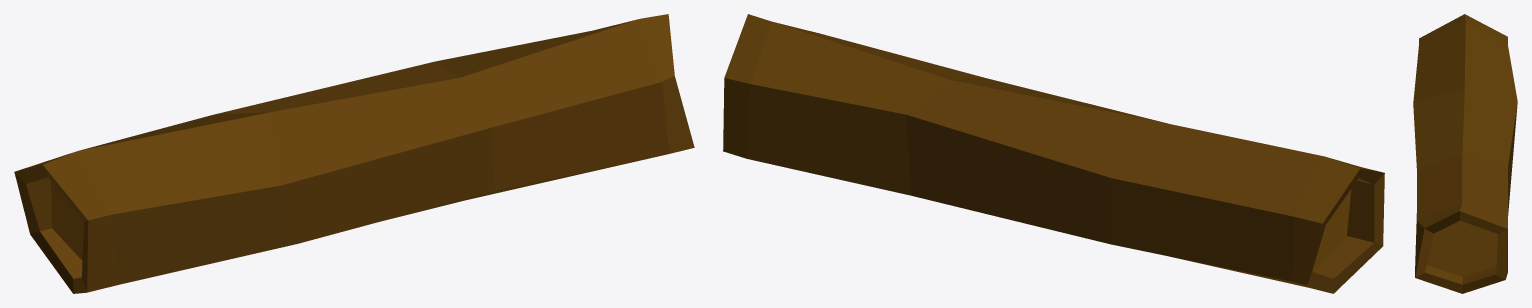
Rendered from Log Bench 4.fbx.
The picture shows the model from 3 angles, left to right: view 1: azimuth 30°, elevation 25°; view 2: azimuth 150°, elevation 25°; view 3: azimuth 270°, elevation 25°; orthographic projection. The views are drawn at different scales.
Visible parts, largest first — view 1: Bench 2; view 2: Bench 2; view 3: Bench 2.
Part boxes in pixels (x1,y1,x2,y2): Bench 2: (14, 14, 694, 293); Bench 2: (723, 14, 1384, 293); Bench 2: (1413, 14, 1517, 293).
Size of the model in its own units: 890 by 195 by 198.
